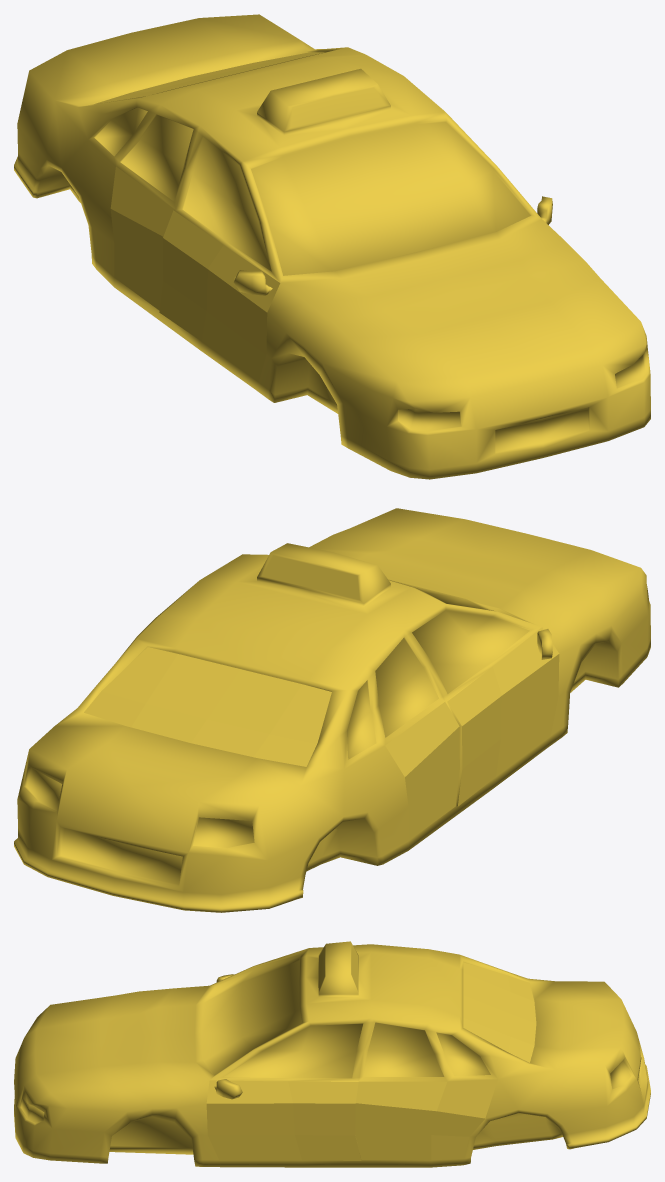
File: Taxi.fbx
3 views of the same model, one above another, from view 1: azimuth 30°, elevation 25°; view 2: azimuth 150°, elevation 25°; view 3: azimuth 270°, elevation 25° (orthographic). The views are drawn at different scales.
Parts seen in each view (by area): view 1: Taxi; view 2: Taxi; view 3: Taxi.
Part boxes in pixels (x1,y1,x2,y2): Taxi: (14,14,650,479); Taxi: (14,508,650,912); Taxi: (14,941,650,1167).
Size of the model in its own units: 181 by 115 by 422.
